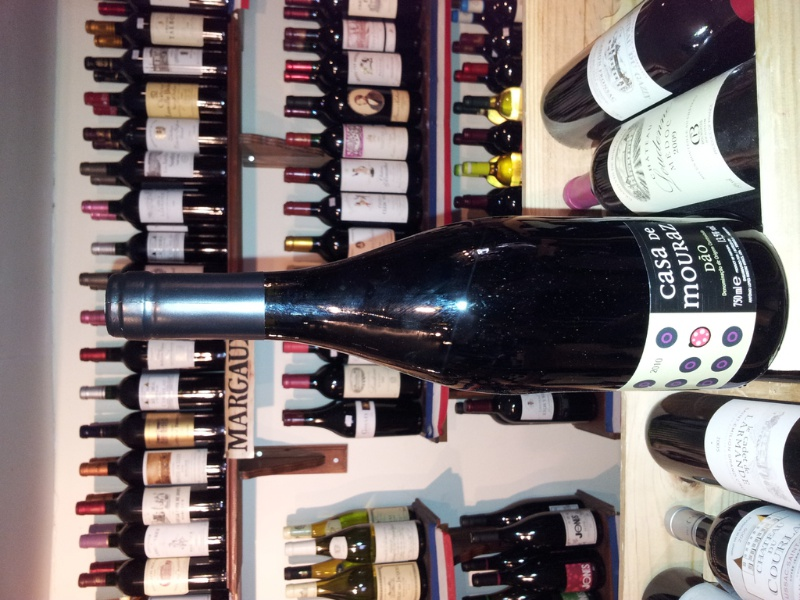wine: (75, 9, 797, 600), (104, 211, 789, 396)
